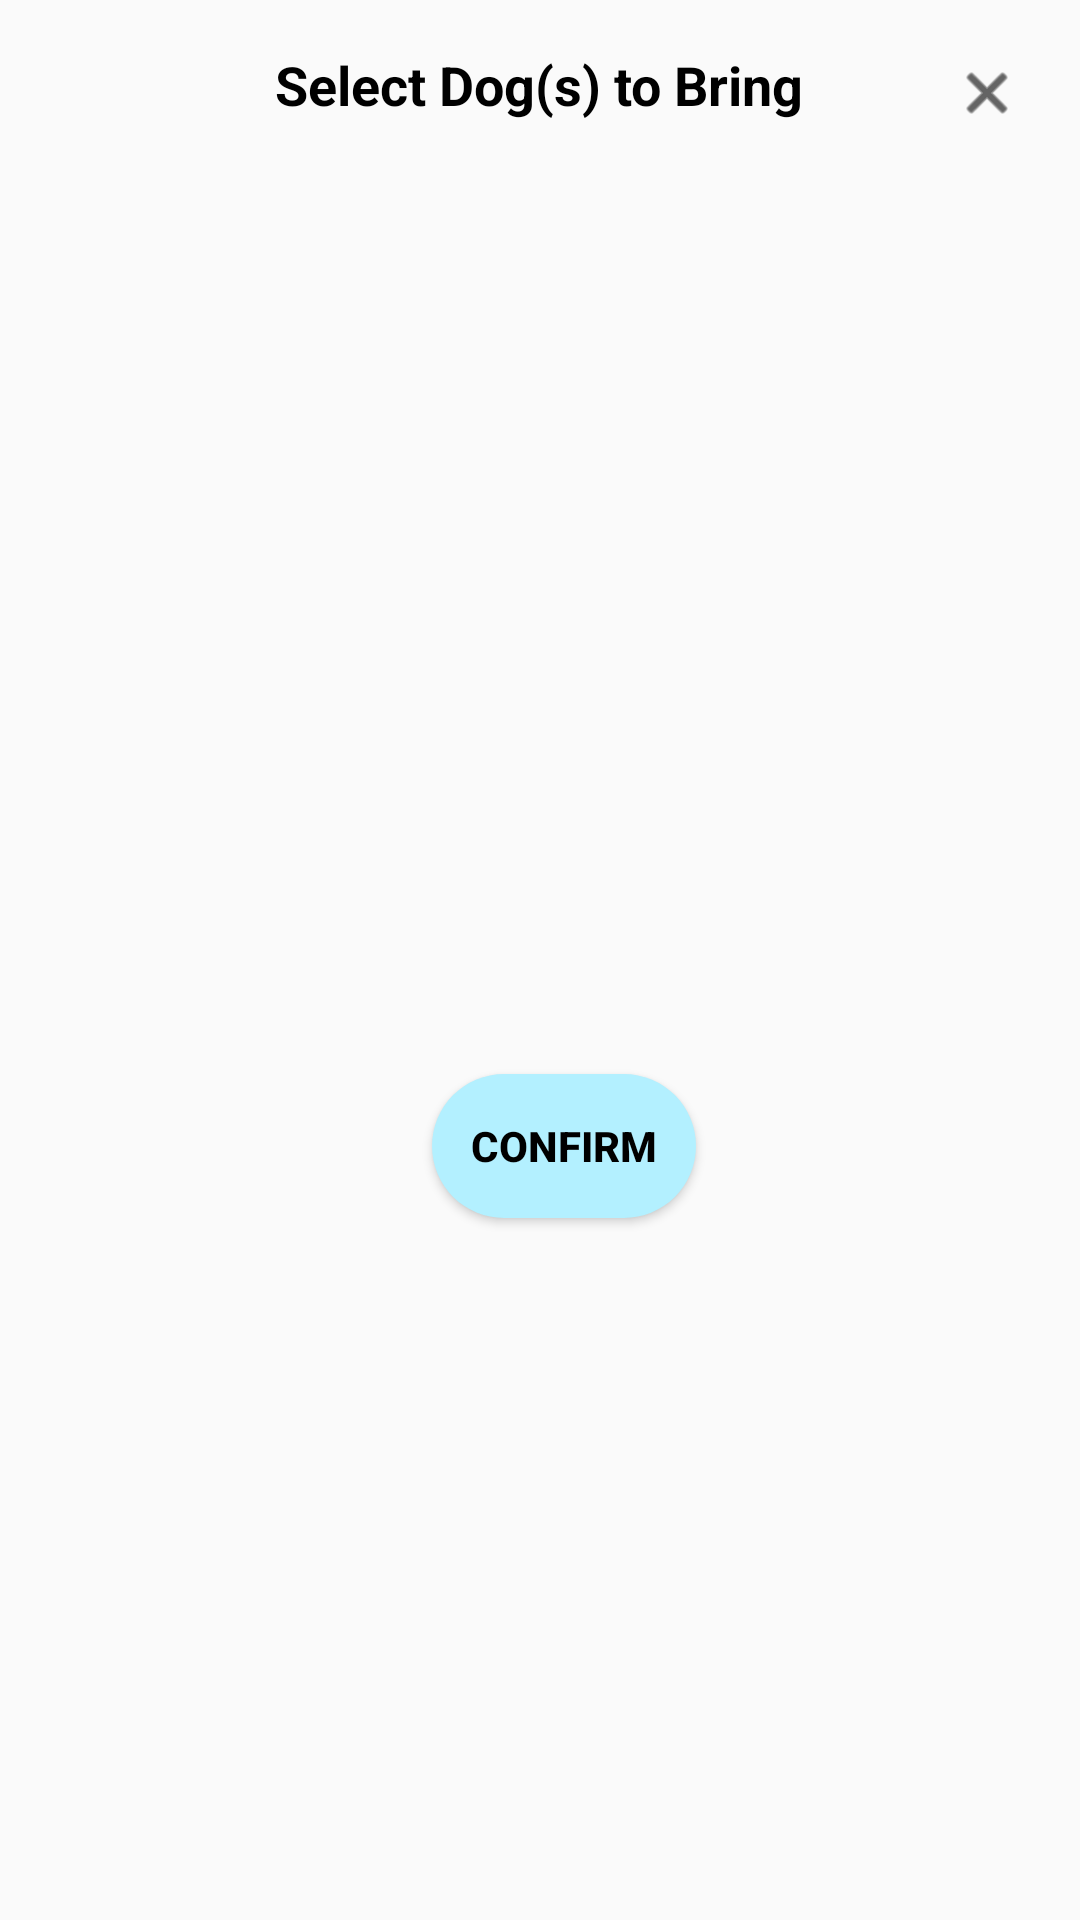

Icon bounding boxes for this 1080px×1920px phone screenshot, format bbox=(x1, y1, x2, y2):
Close: bbox=(966, 72, 1008, 114)
